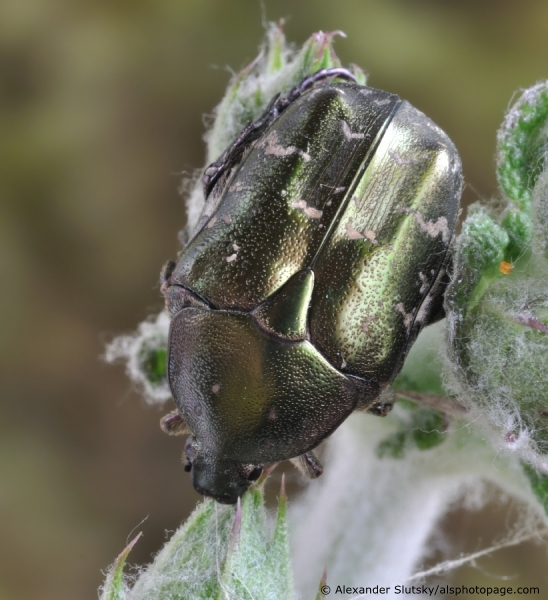Protaetia_metallica: (158, 53, 468, 490)
